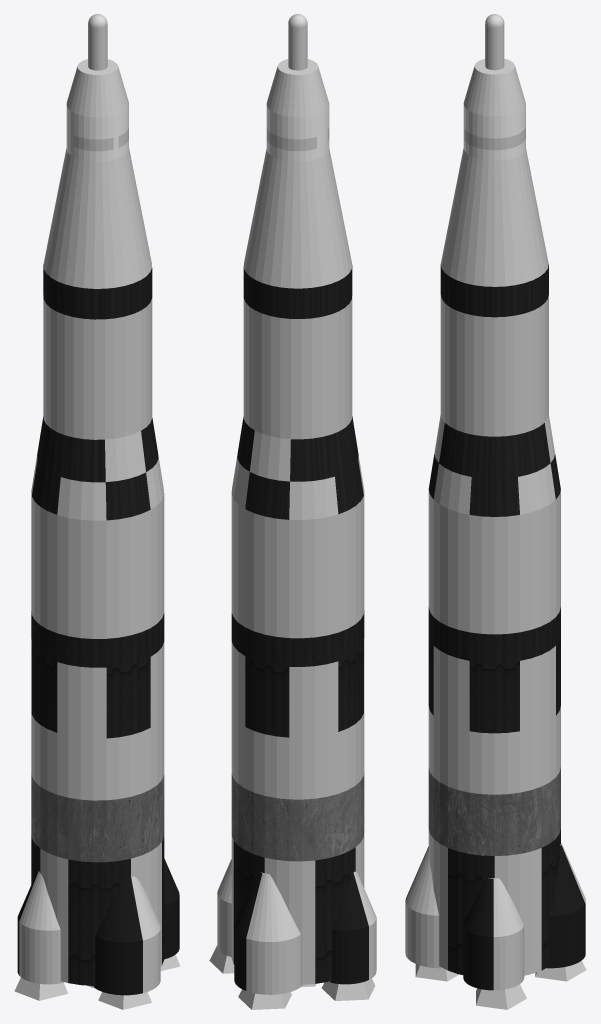
File: Apollo11.3.fbx
3 renders of one model, left to right at view 1: azimuth 30°, elevation 25°; view 2: azimuth 150°, elevation 25°; view 3: azimuth 270°, elevation 25°, orthographic.
Visible parts, largest first — view 1: Cylinder; view 2: Cylinder; view 3: Cylinder.
Part boxes in pixels (x1,y1,x2,y2): Cylinder: [14, 14, 180, 1009]; Cylinder: [209, 14, 376, 1009]; Cylinder: [405, 14, 586, 1009].
Bounding box in the file's own units: 276 × 1595 × 274.
4 materials, 2 textured.
